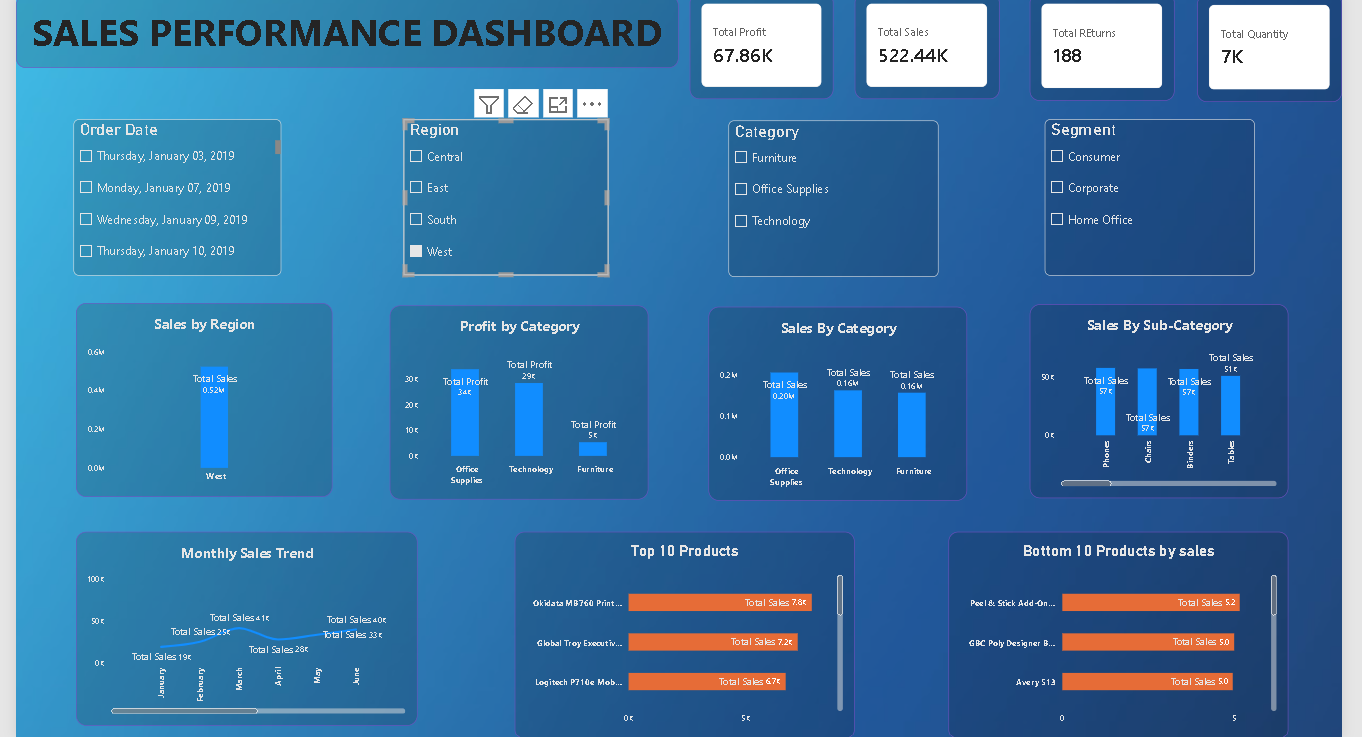

Layout of this report page (visuals, bound fields, positions):
{"tool":"powerbi","page":{"name":"Page 2","canvas":[1920,1080],"ordinal":0},"visuals":[{"type":"cardVisual","fields":{"Data":["SuperStore_Sales_Dataset.Total Profit"]},"box":[975.4,0,208.1,153.8],"z":0},{"type":"cardVisual","fields":{"Data":["SuperStore_Sales_Dataset.Total Sales"]},"box":[1214.3,0,209.9,153.8],"z":1000},{"type":"cardVisual","fields":{"Data":["SuperStore_Sales_Dataset.Total REturns"]},"box":[1467.6,0,209.9,155.6],"z":2000},{"type":"cardVisual","fields":{"Data":["SuperStore_Sales_Dataset.Total Quantity"]},"box":[1710.1,1.8,209.9,155.6],"z":3000},{"type":"lineChart","title":"Monthly Sales Trend","fields":{"Category":["SuperStore_Sales_Dataset.Order Date.Variation.Date Hierarchy.Year","SuperStore_Sales_Dataset.Order Date.Variation.Date Hierarchy.Quarter","SuperStore_Sales_Dataset.Order Date.Variation.Date Hierarchy.Month"],"Y":["SuperStore_Sales_Dataset.Total Sales"]},"box":[86.9,780,494,280.5],"z":4000},{"type":"clusteredColumnChart","title":"Sales By Category","fields":{"Category":["SuperStore_Sales_Dataset.Category"],"Y":["SuperStore_Sales_Dataset.Total Sales"]},"box":[1002.6,454.2,374.6,280.5],"z":5000},{"type":"clusteredColumnChart","title":"Sales by Region","fields":{"Category":["SuperStore_Sales_Dataset.Region"],"Y":["SuperStore_Sales_Dataset.Total Sales"]},"box":[86.9,448.8,371,280.5],"z":6000},{"type":"clusteredColumnChart","title":"Profit by Category","fields":{"Category":["SuperStore_Sales_Dataset.Category"],"Y":["SuperStore_Sales_Dataset.Total Profit"]},"box":[541.1,452.4,374.6,280.5],"z":7000},{"type":"barChart","title":" Top 10 Products","fields":{"Category":["SuperStore_Sales_Dataset.Product Name"],"Y":["SuperStore_Sales_Dataset.Total Sales"]},"box":[722.1,780,492.2,300.4],"z":8000},{"type":"barChart","title":"Bottom 10 Products by sales","fields":{"Category":["SuperStore_Sales_Dataset.Product Name"],"Y":["SuperStore_Sales_Dataset.Total Sales"]},"box":[1350,780,492.2,300.4],"z":9000},{"type":"clusteredColumnChart","title":"Sales By Sub-Category","fields":{"Category":["SuperStore_Sales_Dataset.Sub-Category"],"Y":["SuperStore_Sales_Dataset.Total Sales"]},"box":[1467.6,450.6,374.6,280.5],"z":10000},{"type":"slicer","fields":{"Values":["SuperStore_Sales_Dataset.Order Date"]},"box":[83.2,182.8,300.4,226.2],"z":11000},{"type":"slicer","fields":{"Values":["SuperStore_Sales_Dataset.Region"]},"box":[561,182.8,296.8,226.2],"z":12000},{"type":"slicer","fields":{"Values":["SuperStore_Sales_Dataset.Category"]},"box":[1031.5,184.6,304,226.2],"z":13000},{"type":"slicer","fields":{"Values":["SuperStore_Sales_Dataset.Segment"]},"box":[1489.4,182.8,304,226.2],"z":14000},{"type":"textbox","box":[0,3.6,959.1,105],"z":14001}]}

Visuals, with their boxes on the page's 1920x1080 design canvas (x1, y1, x2, y2). These are canvas units, not pixel positions in the 1362x737 screenshot, which may show the page scaled, cropped or inside an application window:
cardVisual - SuperStore_Sales_Dataset.Total Profit: (975,0,1184,154)
cardVisual - SuperStore_Sales_Dataset.Total Sales: (1214,0,1424,154)
cardVisual - SuperStore_Sales_Dataset.Total REturns: (1468,0,1678,156)
cardVisual - SuperStore_Sales_Dataset.Total Quantity: (1710,2,1920,157)
"Monthly Sales Trend" lineChart: (87,780,581,1060)
"Sales By Category" clusteredColumnChart: (1003,454,1377,735)
"Sales by Region" clusteredColumnChart: (87,449,458,729)
"Profit by Category" clusteredColumnChart: (541,452,916,733)
" Top 10 Products" barChart: (722,780,1214,1080)
"Bottom 10 Products by sales" barChart: (1350,780,1842,1080)
"Sales By Sub-Category" clusteredColumnChart: (1468,451,1842,731)
slicer - SuperStore_Sales_Dataset.Order Date: (83,183,384,409)
slicer - SuperStore_Sales_Dataset.Region: (561,183,858,409)
slicer - SuperStore_Sales_Dataset.Category: (1032,185,1336,411)
slicer - SuperStore_Sales_Dataset.Segment: (1489,183,1793,409)
textbox: (0,4,959,109)
